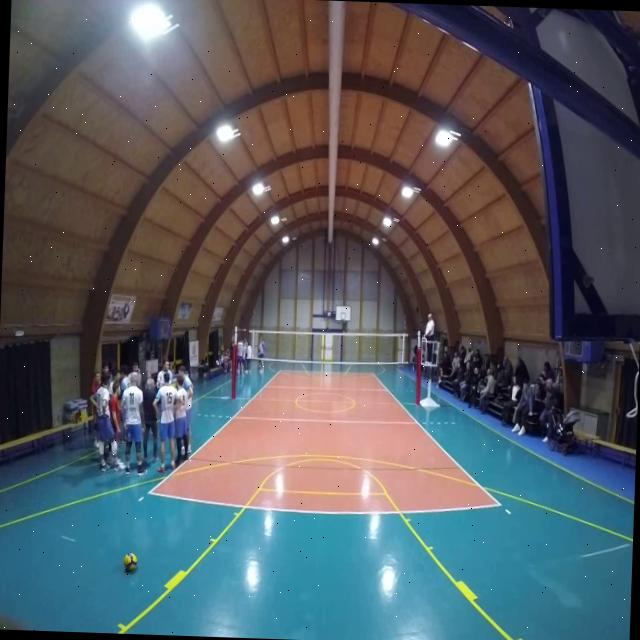Volleyball: (123, 550, 137, 576)
